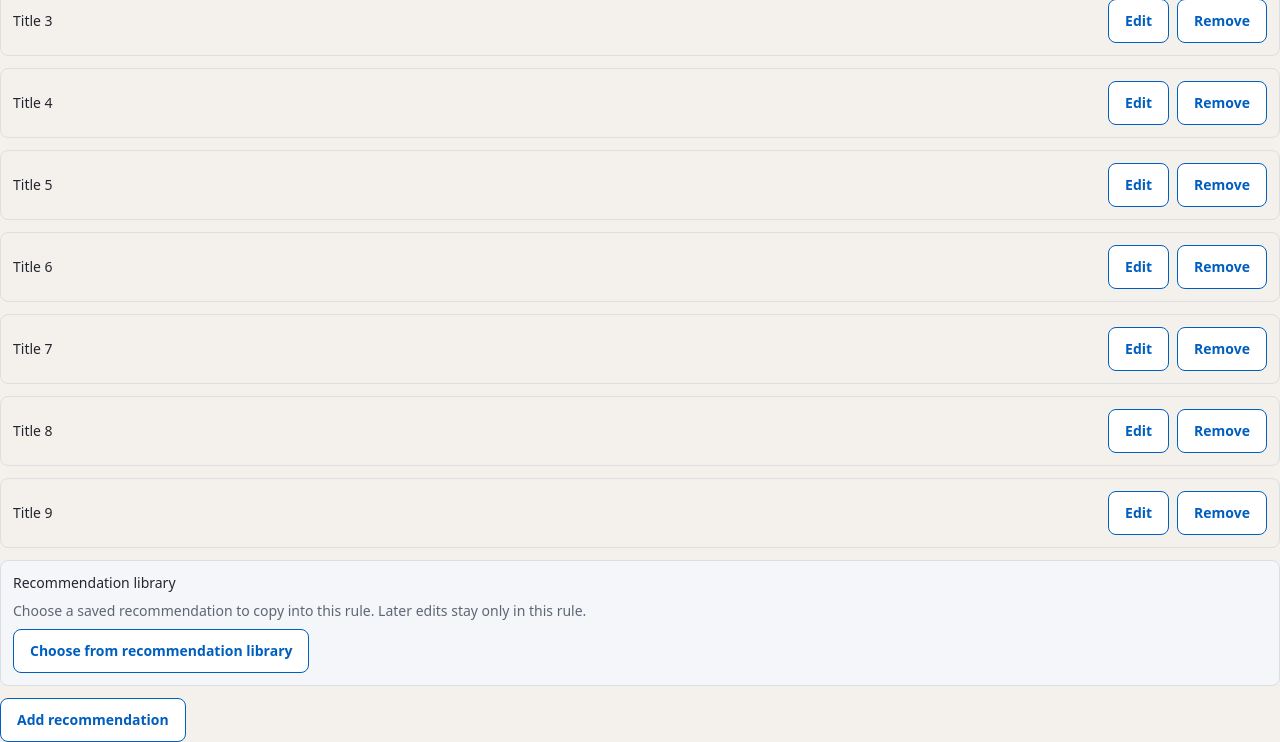
Scenario: RecommendationFields list limits › allows the tenth recommendation and then disables adding and copying from the library
(page scrolled)
Expected: the button "Add recommendation" is enabled, [0, 698, 186, 741]
Click the button "Choose from recommendation library" at (161, 651), box [13, 629, 310, 673]
(page scrolled)
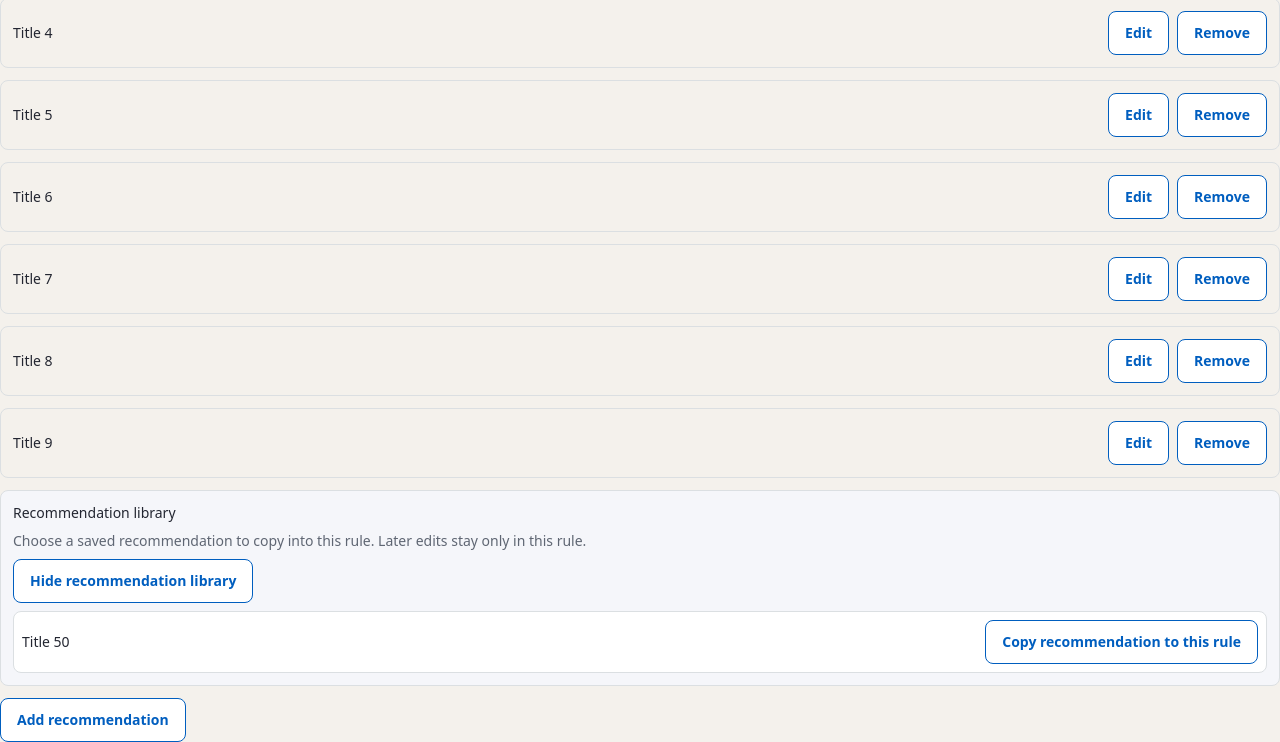
Result: the button "Copy recommendation to this rule" is enabled at [985, 620, 1258, 664]
Click the button "Add recommendation" at (93, 720), box [0, 698, 186, 741]
(page scrolled)
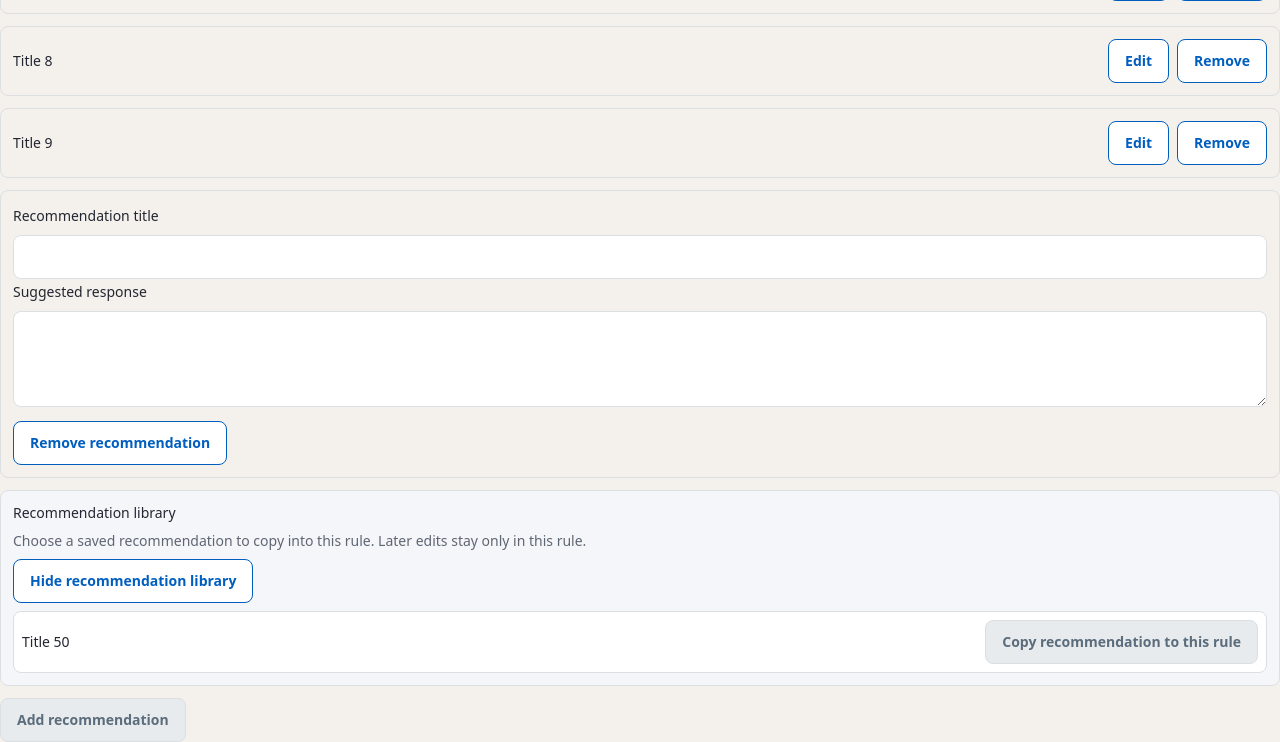
Result: the button "Add recommendation" is disabled at [0, 698, 186, 741]
Result: the button "Copy recommendation to this rule" is disabled at [985, 620, 1258, 664]
